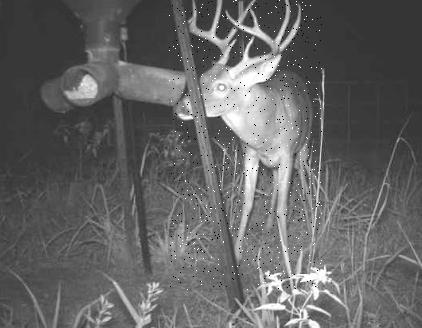Deer: (169, 0, 322, 290)
